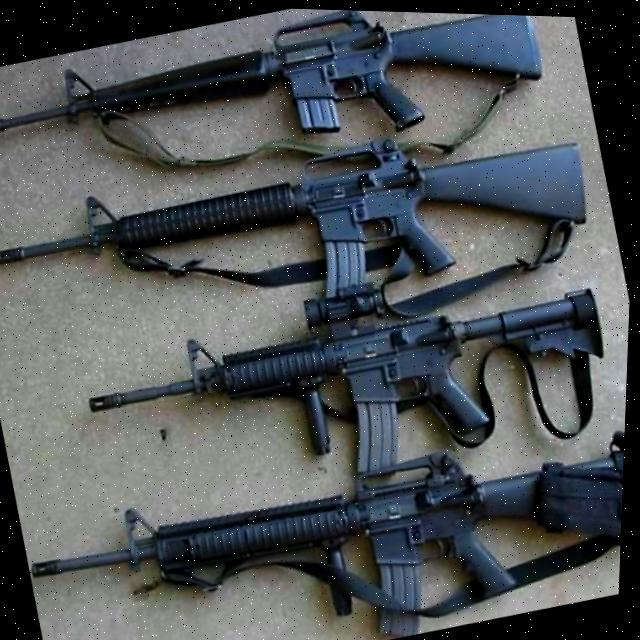firearm: (0, 81, 599, 371), (74, 229, 626, 535), (21, 386, 629, 640), (0, 0, 549, 223)
